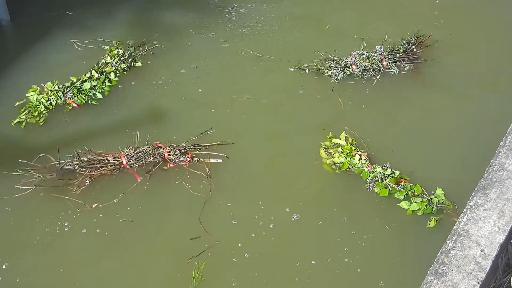twig: (0, 34, 158, 135), (314, 124, 451, 224), (24, 146, 228, 206), (288, 32, 430, 78), (168, 262, 211, 286)
